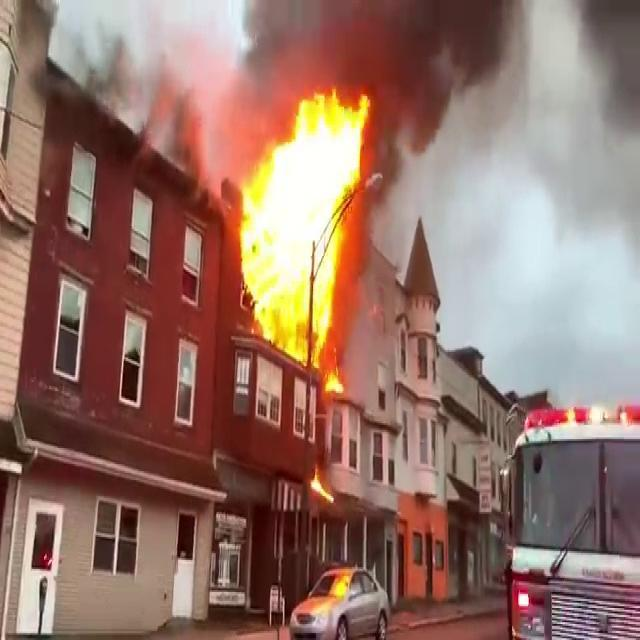Fire: (230, 78, 374, 368)
Smoke: (372, 0, 634, 267), (90, 0, 293, 180)
